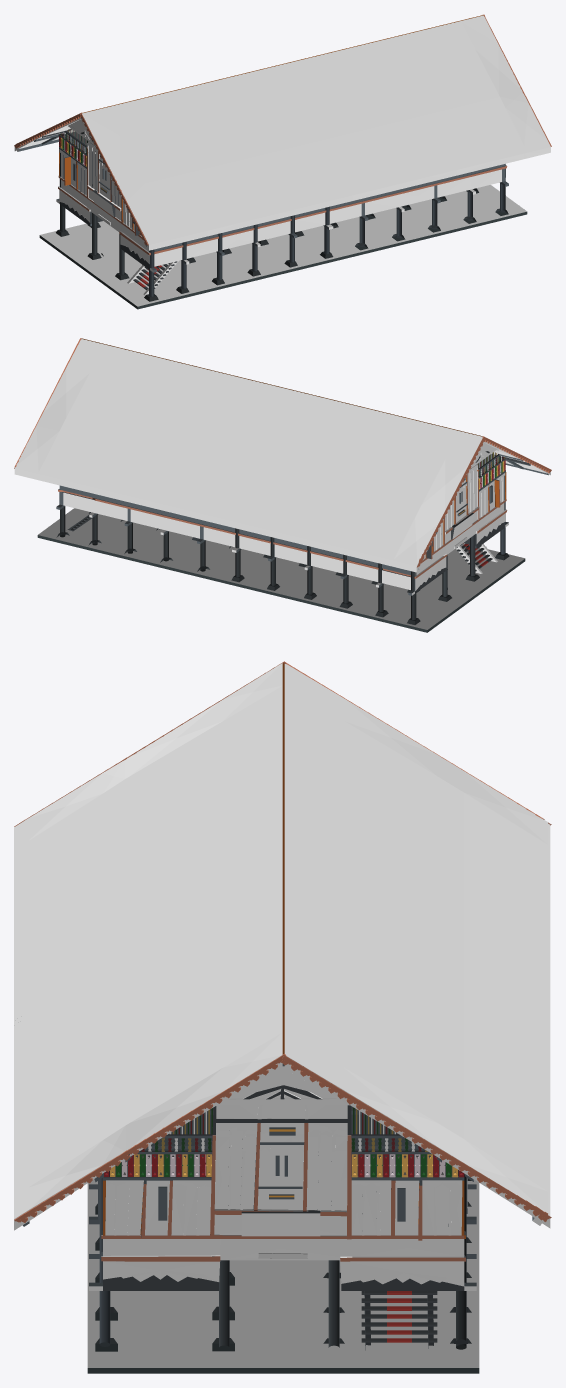
The model's file is rumah_krong_aceh.glb.
3 views of the same model, one above another, from view 1: azimuth 30°, elevation 25°; view 2: azimuth 150°, elevation 25°; view 3: azimuth 270°, elevation 25° (orthographic). The views are drawn at different scales.
Visible parts, largest first — view 1: Cube_Material.028_0, Cube_Material.017_0, Cube_Material.002_0, Cube_Material.005_0, Cube_Material.020_0, Cube_Material.001_0, Cube_Material.012_0, Cube_Material.021_0, Cube_Material.018_0; view 2: Cube_Material.028_0, Cube_Material.017_0, Cube_Material.001_0, Cube_Material.005_0, Cube_Material.020_0, Cube_Material.012_0, Cube_Material.018_0, Cube_Material.021_0; view 3: Cube_Material.028_0, Cube_Material.017_0, Cube_Material.020_0, Cube_Material.012_0, Cube_Material.021_0, Cube_Material.005_0, Cube_Material.115_0, Cube_Material.018_0, Cube_Material.008_0, Cube_Material.009_0, Cube_Material.065_0, Cube_Material.070_0 (+5 smaller).
Boxes of the visible parts, x1,y1,x2,y2 form: Cube_Material.028_0: (14, 15, 550, 306); Cube_Material.017_0: (18, 117, 508, 272); Cube_Material.002_0: (149, 164, 505, 296); Cube_Material.005_0: (39, 190, 527, 309); Cube_Material.020_0: (58, 147, 507, 255); Cube_Material.001_0: (56, 133, 333, 301); Cube_Material.012_0: (14, 14, 551, 245); Cube_Material.021_0: (43, 130, 148, 268); Cube_Material.018_0: (58, 15, 483, 234); Cube_Material.028_0: (14, 339, 550, 629); Cube_Material.017_0: (56, 454, 548, 595); Cube_Material.001_0: (60, 498, 509, 624); Cube_Material.005_0: (37, 535, 525, 632); Cube_Material.020_0: (58, 470, 507, 578); Cube_Material.012_0: (14, 338, 551, 567); Cube_Material.018_0: (82, 338, 506, 557); Cube_Material.021_0: (415, 454, 528, 593); Cube_Material.028_0: (14, 663, 550, 1367); Cube_Material.017_0: (23, 1064, 534, 1286); Cube_Material.020_0: (101, 1123, 465, 1261); Cube_Material.012_0: (14, 661, 551, 1222); Cube_Material.021_0: (103, 1085, 464, 1290); Cube_Material.005_0: (87, 1207, 479, 1373); Cube_Material.115_0: (361, 1291, 437, 1342); Cube_Material.018_0: (103, 663, 465, 1238); Cube_Material.008_0: (95, 1147, 471, 1346); Cube_Material.009_0: (110, 1201, 471, 1347); Cube_Material.065_0: (110, 1154, 457, 1177); Cube_Material.070_0: (104, 1154, 464, 1177).
Size of the model in its own units: 129 by 49.35 by 74.11.
